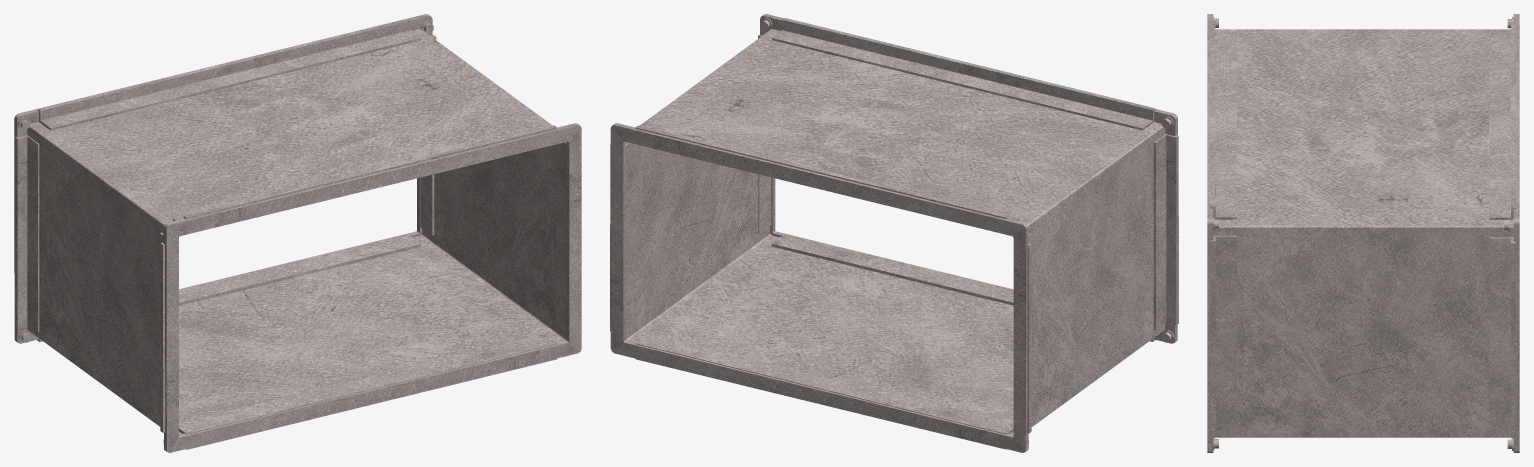
Rendered from SM_Square_Ducting_02l.glb.
3 renders of one model, left to right at view 1: azimuth 30°, elevation 25°; view 2: azimuth 150°, elevation 25°; view 3: azimuth 270°, elevation 25°, orthographic. The views are drawn at different scales.
Visible parts, largest first — view 1: SM_Square_Ducting_02l; view 2: SM_Square_Ducting_02l; view 3: SM_Square_Ducting_02l.
Part boxes in pixels (x1,y1,x2,y2): SM_Square_Ducting_02l: [14, 14, 581, 452]; SM_Square_Ducting_02l: [610, 14, 1178, 452]; SM_Square_Ducting_02l: [1207, 14, 1519, 452].
Bounding box in the file's own units: 0.797 × 0.4213 × 0.5.
1 material, 1 textured.
